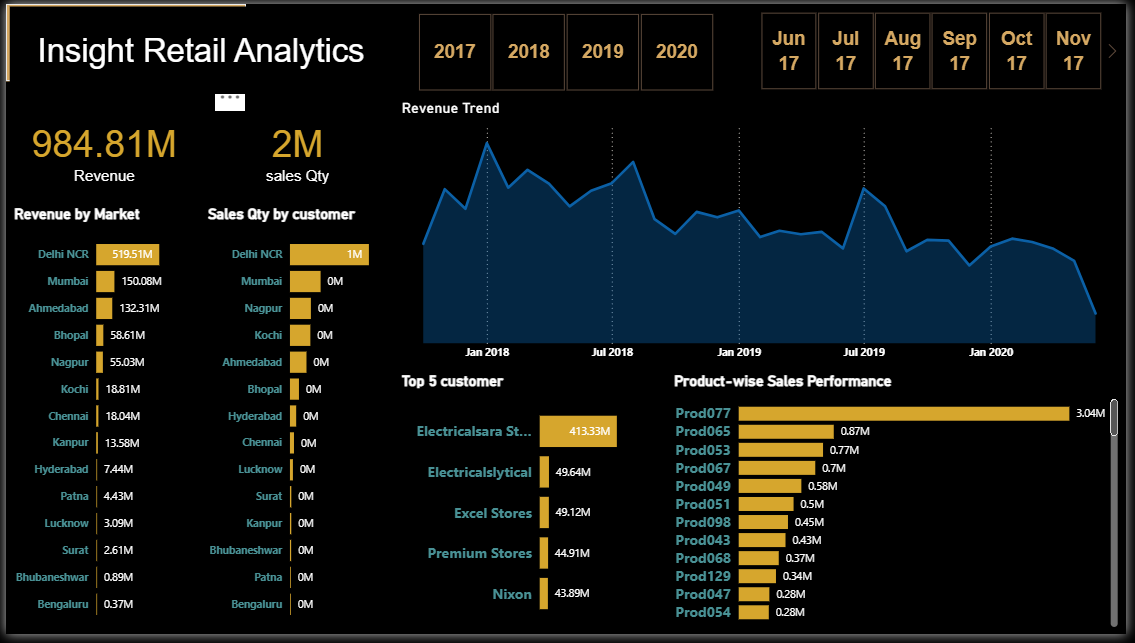

The page's visual inventory and layout, read from the dashboard file:
{"tool":"powerbi","page":{"name":" Page 1","canvas":[1280,720],"ordinal":0},"visuals":[{"type":"card","fields":{"Values":["sales customers.Revenue"]},"box":[4.4,108.8,216.9,118],"z":0},{"type":"card","fields":{"Values":["sales customers.sales Qty"]},"box":[225.7,108.5,215.7,118],"z":1000},{"type":"barChart","title":"Revenue by Market","fields":{"Y":["sales customers.Revenue"],"Category":["sales markets.markets_name"]},"box":[4.5,229.8,216,486],"z":2000},{"type":"barChart","title":"Sales Qty by customer","fields":{"Y":["sales customers.sales Qty"],"Category":["sales markets.markets_name"]},"box":[225.6,230,215,486],"z":3000},{"type":"slicer","fields":{"Values":["sales date.cy_date"]},"box":[836.7,3.3,438.3,101.7],"z":4000},{"type":"barChart","title":"Top 5 customer ","fields":{"Y":["sales customers.Revenue"],"Category":["sales customers.custmer_name"]},"box":[446.7,420,306,296.7],"z":5000},{"type":"slicer","fields":{"Values":["sales date.year"]},"box":[446.2,3.8,386.2,101.2],"z":6000},{"type":"areaChart","title":"Revenue Trend ","fields":{"Category":["sales date.cy_date.Variation.Date Hierarchy.Year","sales date.cy_date.Variation.Date Hierarchy.Quarter","sales date.cy_date.Variation.Date Hierarchy.Month","sales date.cy_date.Variation.Date Hierarchy.Day"],"Y":["sales customers.Revenue"]},"box":[446.7,108.3,828.3,308.3],"z":7000},{"type":"barChart","title":"Product-wise Sales Performance","fields":{"Y":["sales customers.Revenue"],"Category":["sales products.product_code"]},"box":[758.6,420,517.1,297.1],"z":8000},{"type":"shape","box":[0,0,274.3,88.6],"z":9000},{"type":"shape","box":[4.3,2.9,437.1,100],"z":10000}]}

Visuals, with their boxes in screenshot pixels (x1, y1, x2, y2), scaled from the page's 1280x720 canvas onto the 1135x643 screenshot:
card - sales customers.Revenue: bbox=[4, 97, 196, 203]
card - sales customers.sales Qty: bbox=[200, 97, 391, 202]
"Revenue by Market" barChart: bbox=[4, 205, 196, 639]
"Sales Qty by customer" barChart: bbox=[200, 205, 391, 639]
slicer - sales date.cy_date: bbox=[742, 3, 1131, 94]
"Top 5 customer " barChart: bbox=[396, 375, 667, 640]
slicer - sales date.year: bbox=[396, 3, 738, 94]
"Revenue Trend " areaChart: bbox=[396, 97, 1131, 372]
"Product-wise Sales Performance" barChart: bbox=[673, 375, 1131, 640]
shape: bbox=[0, 0, 243, 79]
shape: bbox=[4, 3, 391, 92]
